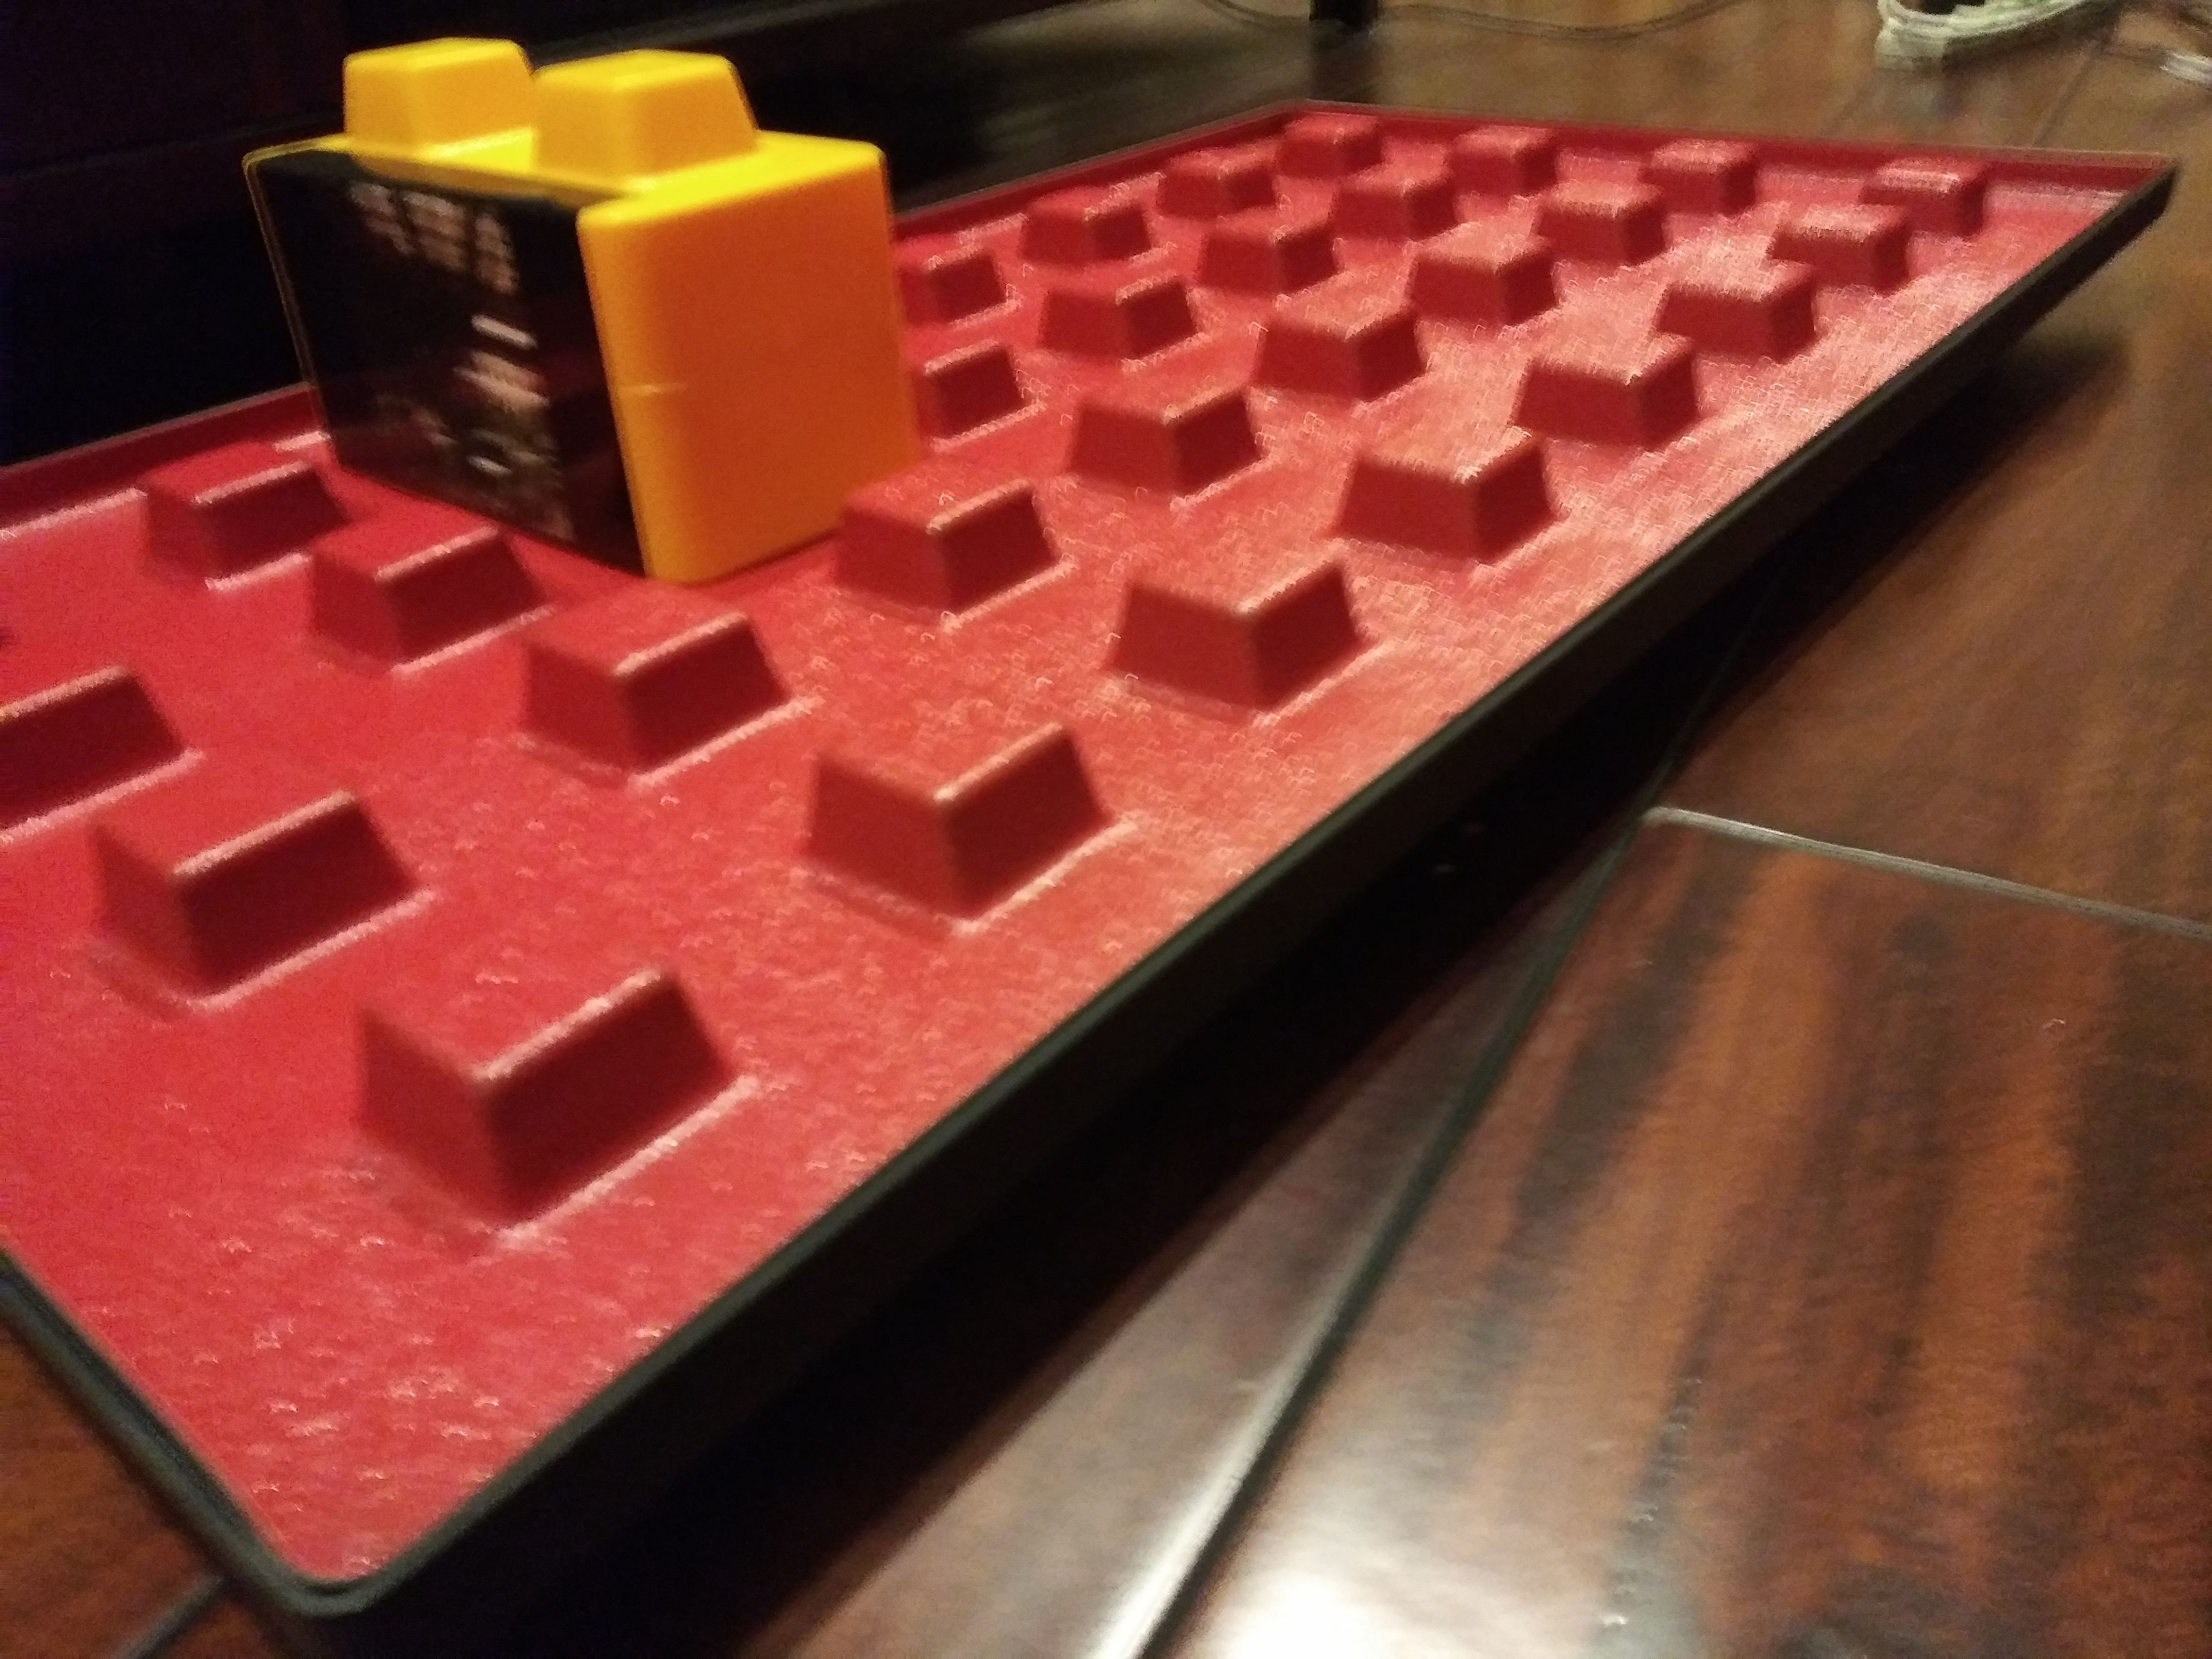red foundation: (49, 94, 2064, 1359)
